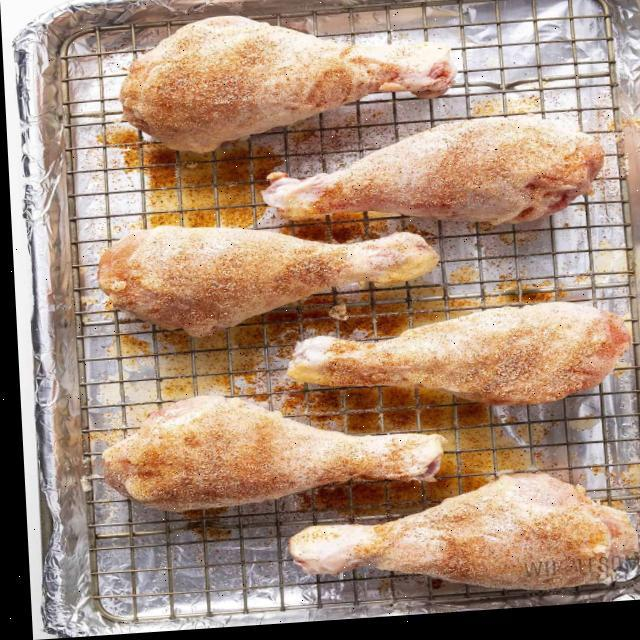leg: (114, 1, 464, 170), (262, 472, 624, 610), (283, 301, 622, 442), (61, 206, 426, 336), (108, 390, 442, 522), (250, 124, 584, 248)
